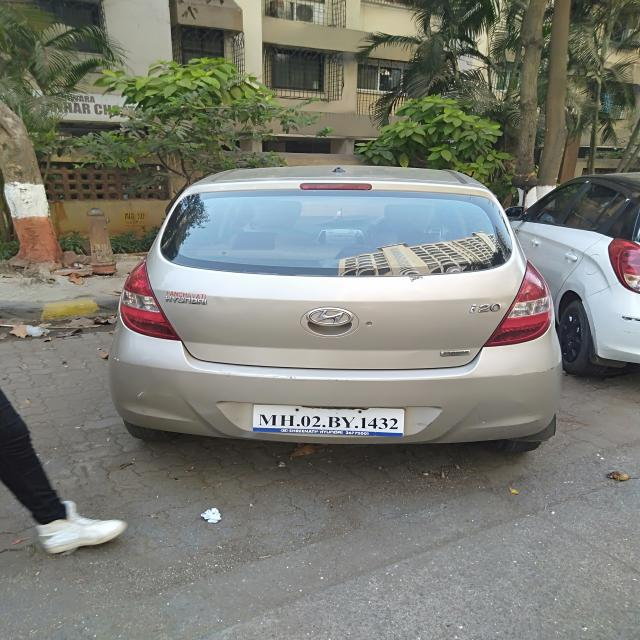Number-Plate: (254, 406, 405, 434)
